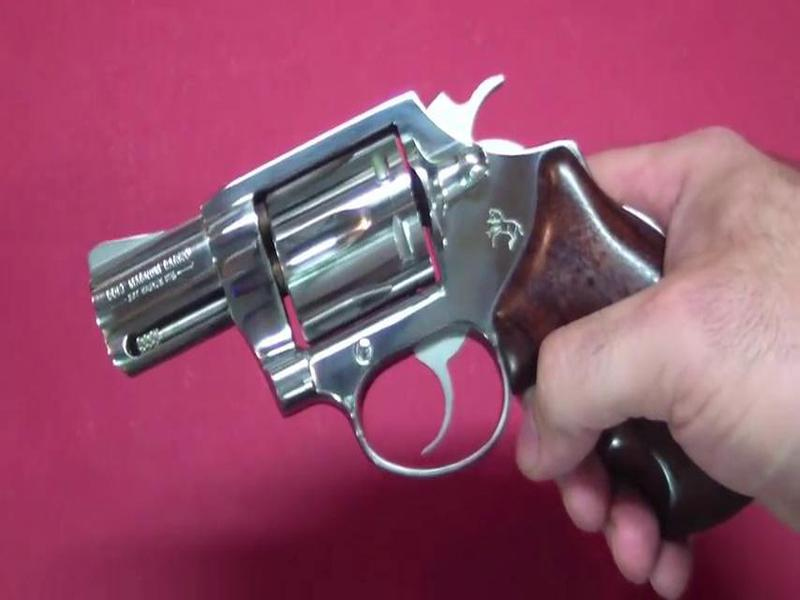Revolver: (83, 72, 690, 503)
